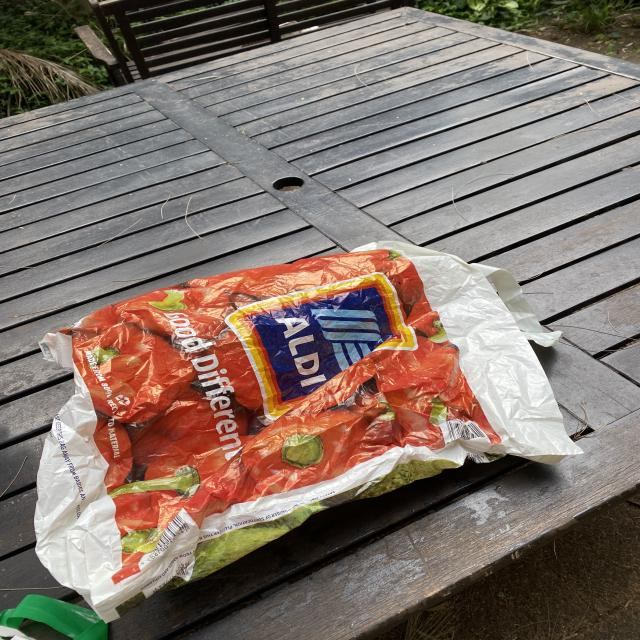bag: (30, 240, 586, 625), (0, 592, 114, 640)
